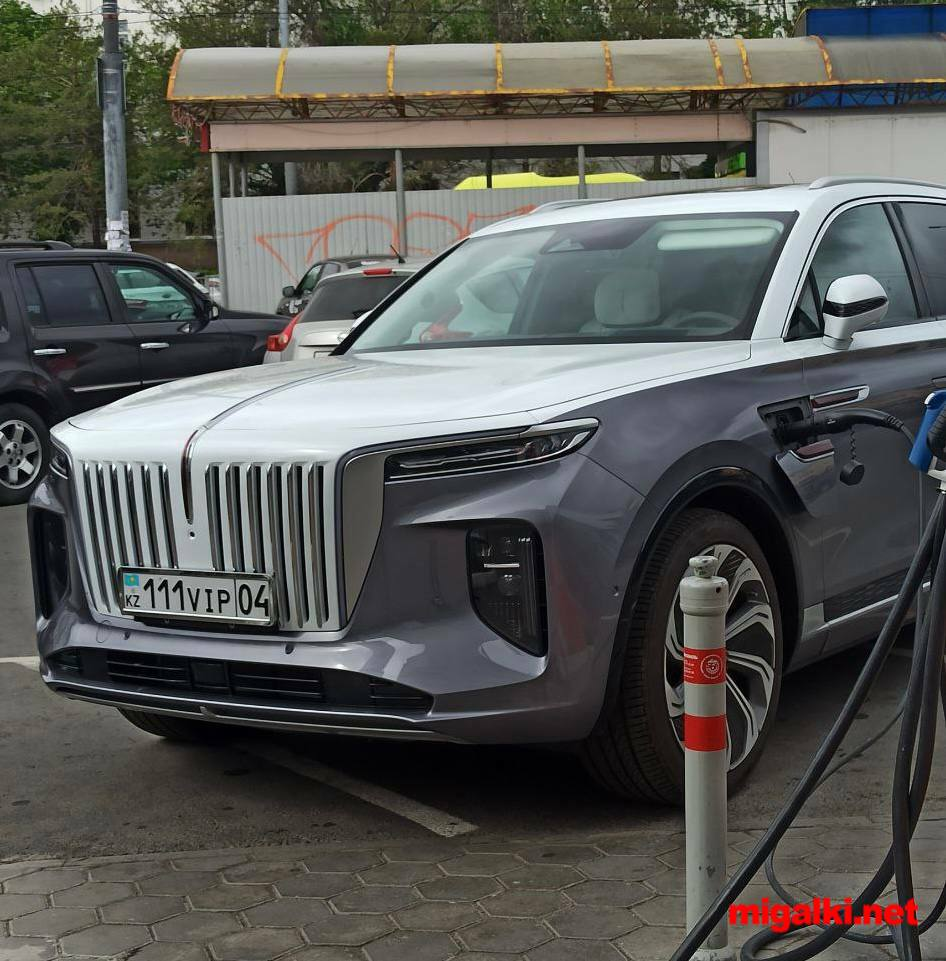license_plate: (119, 566, 278, 627)
